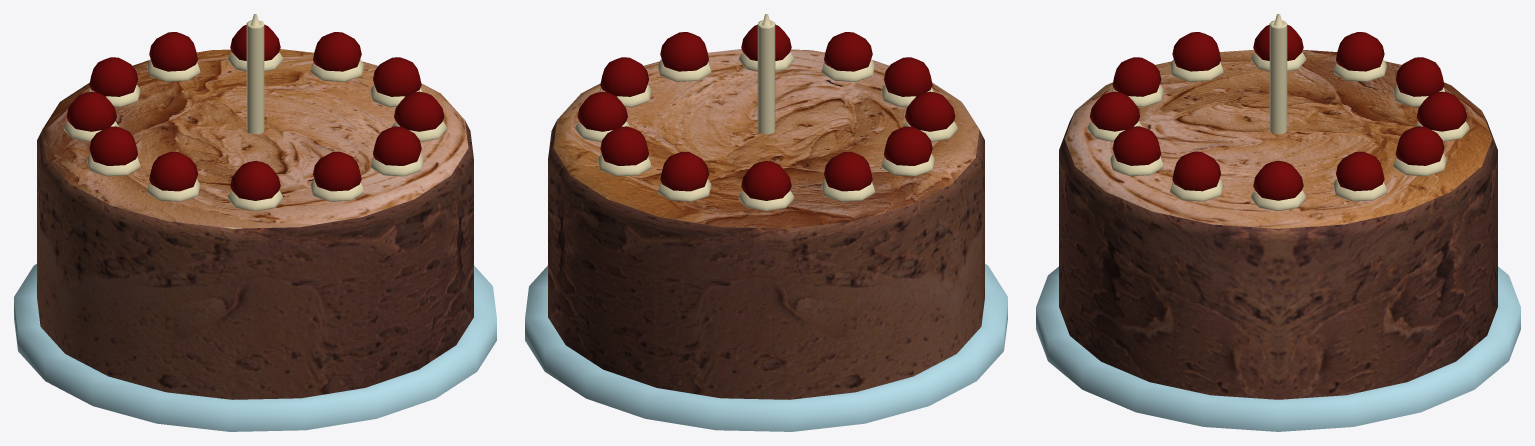
File: cake.fbx
The picture shows the model from 3 angles, left to right: view 1: azimuth 30°, elevation 25°; view 2: azimuth 150°, elevation 25°; view 3: azimuth 270°, elevation 25°; orthographic projection.
Parts seen in each view (by area): view 1: polySurface13; view 2: polySurface13; view 3: polySurface13.
Part boxes in pixels (box(x1,y1,x2,y2)): polySurface13: box(14, 14, 496, 431); polySurface13: box(525, 14, 1007, 431); polySurface13: box(1036, 14, 1520, 431).
Bounding box in the file's own units: 1.1 × 0.7916 × 1.1.
